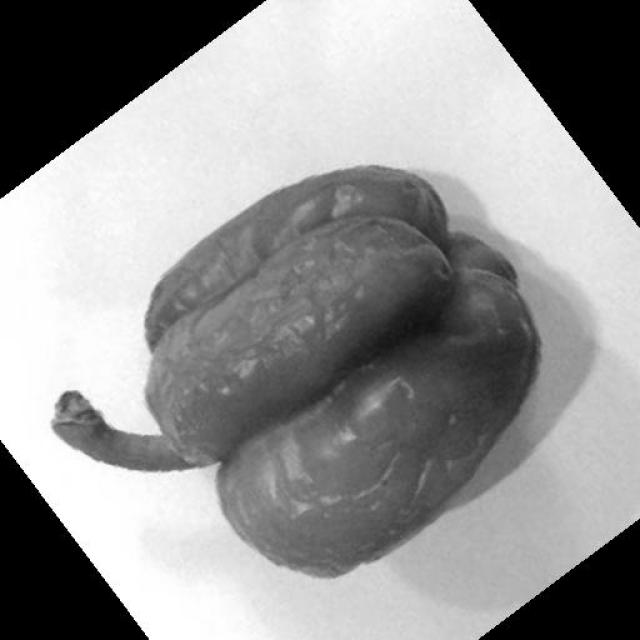Stale_Capsicum: (79, 143, 562, 531)
